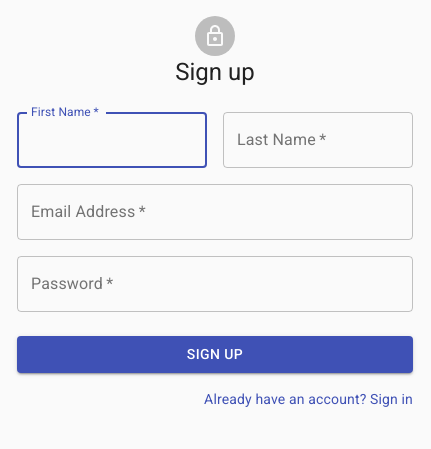
Test: Signup › email input indicates error with duplicated email
Type "duplicateEmail@gmail.com" into the field with test id "email-signup" at point(215, 212), box [17, 184, 413, 240]
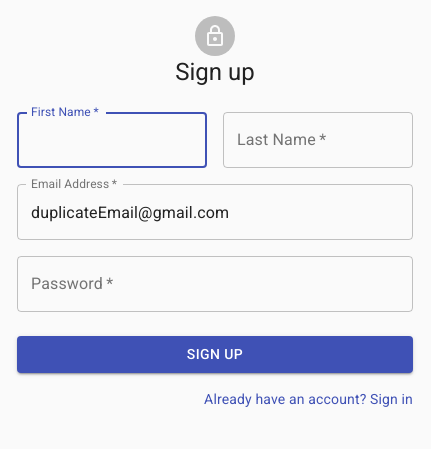
Click the button at point(215, 354), box [17, 336, 413, 372]
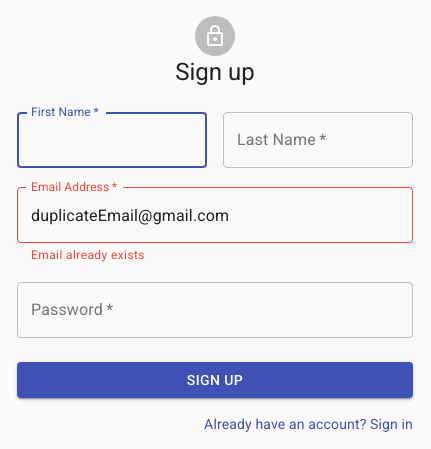
Result: the text "Email already exists" is shown at [31, 248, 145, 262]
